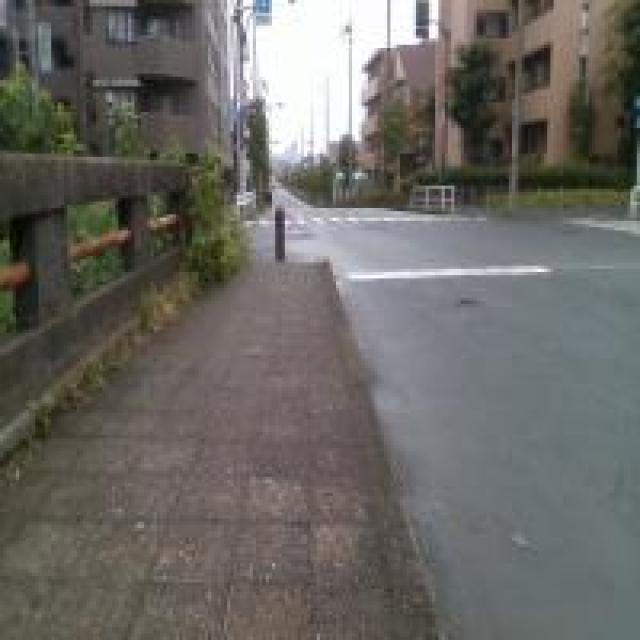Obstacle: (275, 207, 284, 261)
Road: (273, 188, 639, 639), (257, 209, 273, 256)
Sidewalk: (0, 262, 435, 639)
